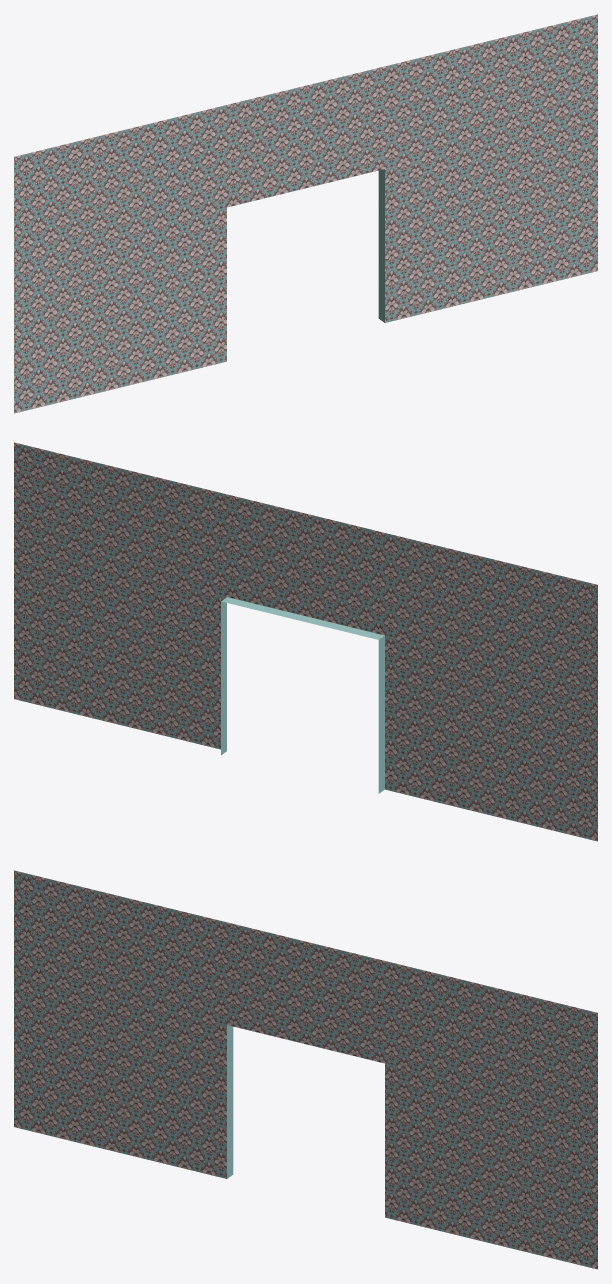
File: Front_Wall.fbx
3 views of the same model, one above another, from view 1: azimuth 30°, elevation 25°; view 2: azimuth 150°, elevation 25°; view 3: azimuth 330°, elevation 25° (orthographic).
Visible parts, largest first — view 1: Front Wall; view 2: Front Wall; view 3: Front Wall.
Part boxes in pixels (left/top/right/bottom): Front Wall: left=14, top=14, right=597, bottom=413; Front Wall: left=14, top=442, right=597, bottom=841; Front Wall: left=14, top=870, right=597, bottom=1269.
Size of the model in its own units: 5002 by 2101 by 90.
1 material, 1 textured.
